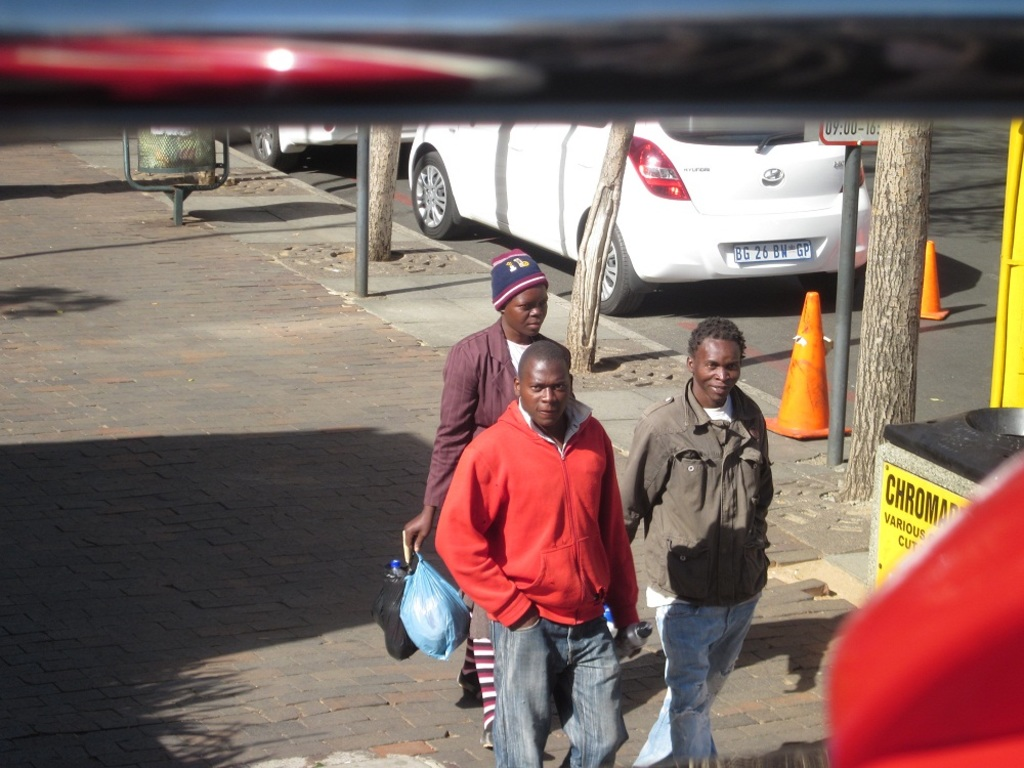Car: (403, 115, 873, 320), (210, 125, 415, 166)
